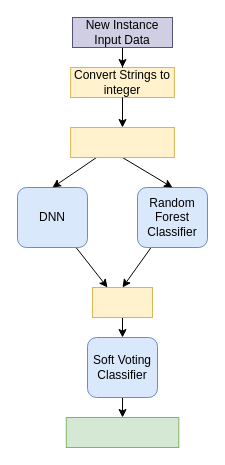
The diagram is 225 pixels wide and 465 high, and some of its shapes have lost their labels. Here are the shapes that lost their labels. From the top down, the centre of each, then its label:
the point at 122,142: Scale features between 0 and 1
the point at 122,302: Predictions
the point at 122,432: Prediction
